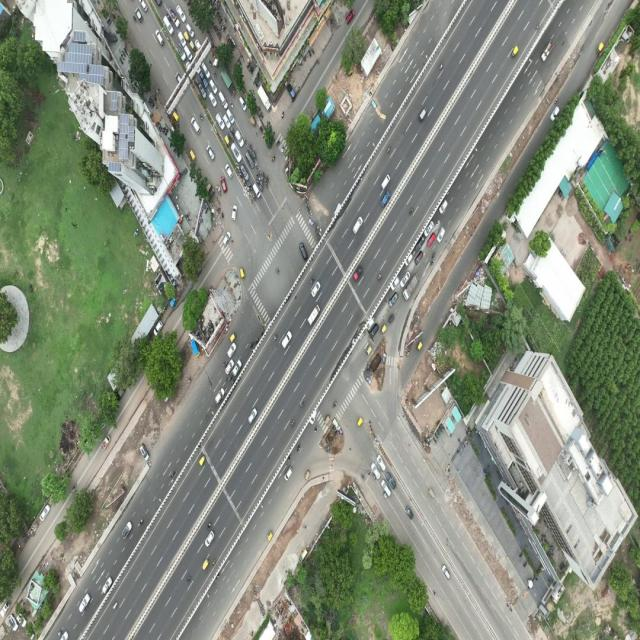3W: (596, 42, 603, 55), (202, 558, 209, 570), (512, 45, 518, 58), (357, 416, 363, 427), (267, 531, 273, 542), (224, 135, 230, 146), (250, 115, 256, 126), (366, 346, 372, 356), (324, 415, 330, 425), (199, 455, 205, 465), (230, 332, 236, 342), (251, 150, 257, 160), (173, 112, 179, 122), (190, 40, 196, 50), (240, 267, 245, 278), (190, 150, 196, 159), (389, 314, 394, 324), (417, 342, 422, 352), (305, 470, 310, 480), (209, 188, 214, 198), (184, 31, 189, 41), (381, 324, 386, 333), (206, 183, 211, 192), (229, 131, 233, 141)
Cars: (163, 16, 174, 35), (231, 143, 242, 162), (79, 594, 90, 612), (414, 236, 425, 252), (386, 473, 396, 490), (381, 479, 391, 496), (381, 190, 391, 207), (282, 331, 292, 348), (176, 44, 186, 61), (219, 91, 228, 109), (40, 504, 50, 520), (102, 577, 112, 593), (122, 522, 132, 538), (400, 272, 410, 288), (232, 360, 242, 376), (140, 444, 149, 461), (215, 387, 224, 404), (177, 5, 186, 22), (200, 72, 209, 89), (198, 83, 207, 100), (235, 130, 244, 147), (240, 164, 249, 181), (191, 117, 200, 134), (205, 531, 215, 546), (424, 221, 434, 236), (9, 614, 18, 630), (377, 454, 386, 470), (371, 463, 380, 479), (353, 217, 362, 233), (311, 281, 320, 297), (248, 408, 257, 424), (227, 342, 236, 358), (299, 242, 307, 260), (550, 106, 559, 122), (155, 29, 164, 45), (246, 150, 254, 168), (222, 230, 231, 246), (206, 144, 215, 160), (16, 614, 27, 627), (404, 505, 414, 519), (426, 233, 436, 247), (390, 276, 400, 290), (369, 324, 379, 338), (389, 292, 398, 307), (225, 359, 234, 374), (414, 251, 424, 264), (154, 320, 162, 336), (442, 564, 450, 580), (437, 226, 445, 242), (309, 408, 317, 424), (178, 31, 186, 47), (216, 114, 224, 130), (353, 266, 362, 280), (223, 114, 231, 129), (220, 176, 227, 193), (439, 200, 448, 213), (346, 9, 355, 22), (382, 174, 390, 188), (419, 107, 427, 121), (288, 84, 295, 100), (135, 8, 143, 22), (184, 46, 192, 60), (240, 96, 247, 112), (227, 108, 234, 124), (253, 184, 261, 198), (139, 0, 148, 12), (210, 79, 217, 94), (209, 92, 216, 107), (225, 164, 232, 179), (186, 24, 194, 37), (285, 467, 292, 481), (405, 254, 413, 266), (366, 318, 374, 330), (203, 65, 210, 78), (231, 205, 237, 220), (60, 631, 69, 640), (176, 72, 182, 83), (195, 40, 201, 50), (154, 0, 162, 6)
LCV: (541, 40, 554, 63), (167, 5, 180, 28), (308, 304, 320, 325), (1, 602, 10, 618), (100, 436, 110, 450)
M2W: (409, 208, 414, 215), (113, 602, 118, 609), (171, 471, 176, 478), (72, 483, 77, 490), (387, 146, 391, 153), (250, 341, 254, 348), (433, 591, 437, 598), (252, 194, 256, 201), (200, 114, 204, 121), (276, 268, 280, 275), (536, 23, 540, 29), (430, 259, 434, 265), (378, 274, 382, 280), (333, 402, 337, 408), (314, 427, 318, 433), (216, 574, 220, 580), (207, 523, 211, 529), (186, 576, 190, 582), (58, 631, 62, 637), (228, 375, 232, 381), (223, 361, 227, 367), (311, 276, 315, 282), (214, 70, 217, 78), (276, 140, 280, 146), (260, 175, 264, 181), (260, 181, 264, 187), (242, 178, 245, 186), (297, 444, 300, 451), (288, 455, 291, 462), (140, 518, 143, 525), (232, 378, 235, 385), (167, 13, 170, 20), (230, 101, 233, 108), (247, 144, 250, 151), (266, 175, 269, 182), (432, 253, 436, 258), (440, 64, 443, 70), (555, 98, 558, 104), (300, 401, 303, 407), (212, 560, 215, 566), (291, 421, 294, 427), (209, 60, 212, 66), (282, 110, 284, 119), (282, 144, 284, 153), (231, 127, 234, 133), (249, 142, 252, 148), (255, 163, 258, 169), (258, 168, 261, 174), (257, 174, 260, 180), (249, 184, 252, 190), (240, 171, 242, 179), (195, 79, 199, 83), (274, 334, 276, 341), (256, 337, 258, 344), (134, 15, 136, 22), (244, 137, 246, 144), (265, 180, 267, 187), (260, 184, 262, 191), (368, 470, 370, 476), (362, 474, 364, 480), (262, 171, 264, 177), (272, 156, 274, 161), (256, 178, 258, 182)
MAV: (220, 68, 236, 96), (258, 85, 271, 112)
Truck: (403, 273, 420, 301)
